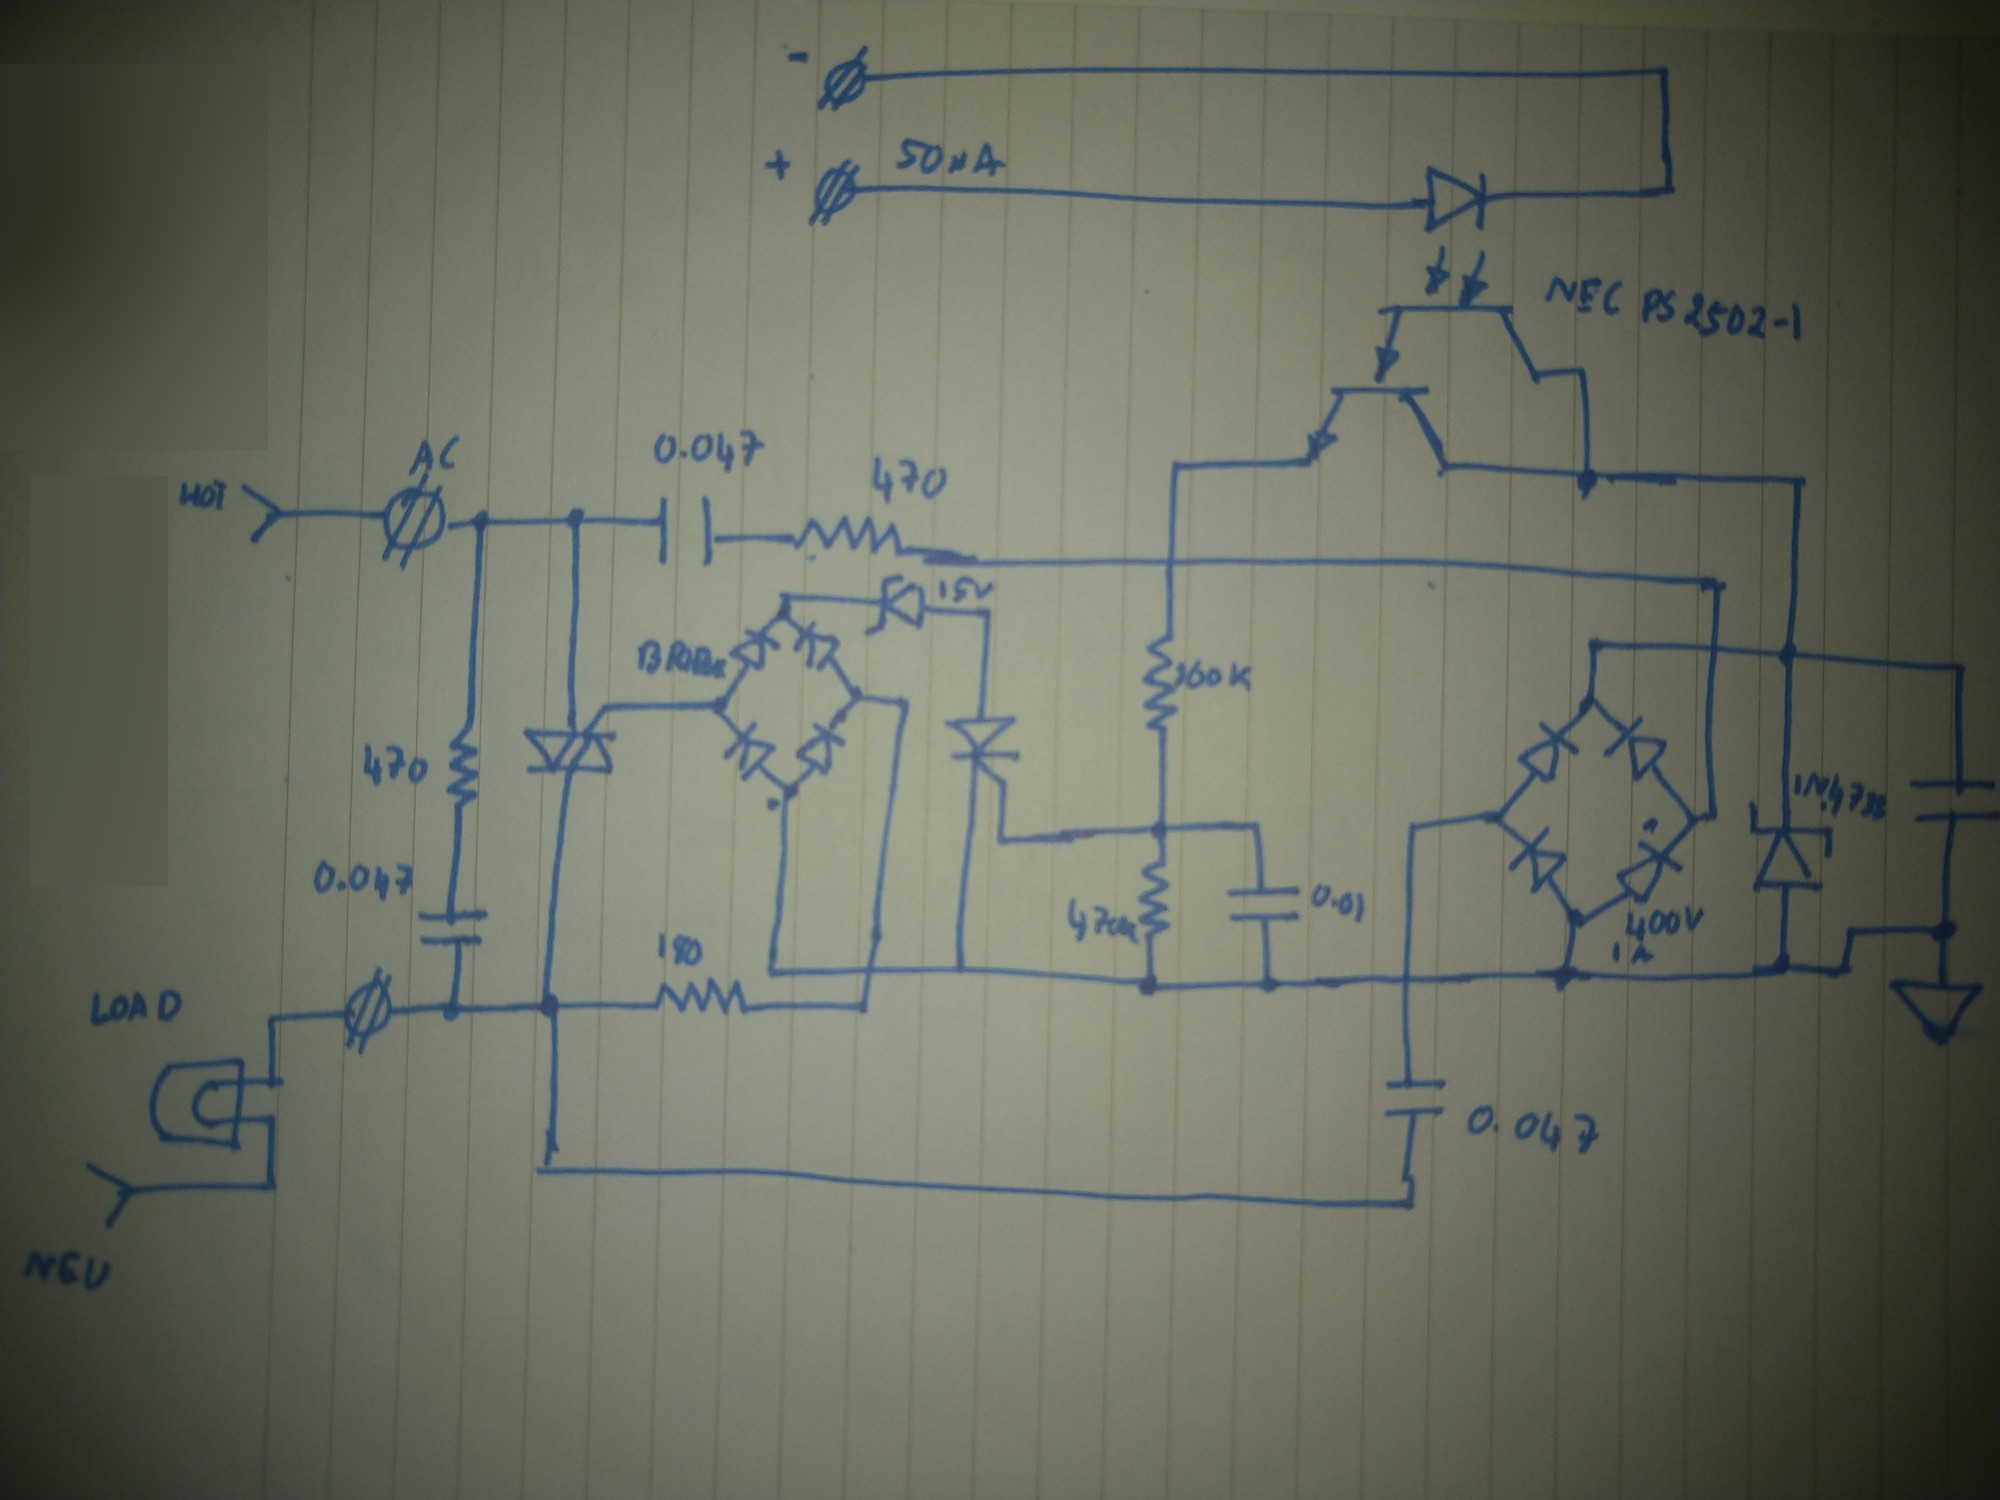capacitor.unpolarized: (1909, 770, 2000, 829), (655, 495, 721, 567), (1227, 879, 1301, 930), (1384, 1073, 1446, 1128), (416, 906, 491, 949)
crossover: (1157, 550, 1183, 574), (1395, 969, 1420, 989), (1702, 638, 1726, 659), (858, 958, 879, 980)
diode: (1750, 800, 1835, 890), (1616, 841, 1683, 904), (1605, 715, 1668, 782), (1509, 827, 1569, 893), (865, 575, 926, 637), (1517, 722, 1580, 782), (723, 722, 776, 782), (795, 722, 846, 774), (794, 622, 841, 671), (729, 629, 781, 670)
gnd: (1887, 975, 1984, 1046)
junction: (1573, 462, 1602, 498), (535, 989, 565, 1023), (1135, 966, 1164, 997), (1553, 961, 1580, 994), (1932, 917, 1959, 947), (1255, 969, 1282, 997), (441, 994, 466, 1024), (1769, 952, 1795, 978), (1657, 176, 1683, 202), (1791, 468, 1813, 496), (1778, 641, 1802, 666), (843, 684, 868, 707), (565, 506, 589, 531), (535, 1157, 557, 1182), (1706, 570, 1728, 596), (1567, 904, 1587, 931), (1150, 816, 1172, 840), (1578, 692, 1602, 714), (950, 956, 972, 978), (1246, 815, 1268, 837), (260, 1174, 280, 1197), (710, 692, 731, 715), (780, 777, 798, 802), (472, 507, 491, 533), (261, 1007, 283, 1027), (1950, 657, 1972, 678), (773, 607, 794, 629), (854, 994, 872, 1018), (1398, 1190, 1417, 1213), (762, 961, 781, 983), (1487, 804, 1506, 826), (261, 1108, 280, 1130), (261, 1071, 283, 1090), (773, 588, 795, 607), (894, 692, 913, 714), (1683, 810, 1702, 830), (994, 830, 1013, 849), (1169, 457, 1187, 476), (1406, 818, 1424, 838), (1704, 804, 1721, 824), (1835, 963, 1855, 980), (1655, 61, 1672, 82), (980, 603, 997, 622), (1573, 362, 1591, 380), (1586, 633, 1602, 652), (1843, 925, 1860, 941)
lamp: (146, 1056, 246, 1153)
optocoupler: (1372, 165, 1540, 384)
resistor: (791, 514, 906, 559), (654, 977, 750, 1018), (1142, 633, 1178, 734), (446, 723, 480, 811), (1137, 859, 1172, 941)
terminal: (817, 46, 871, 110), (809, 161, 861, 225), (85, 1161, 134, 1227), (241, 482, 283, 544)
text: (1543, 276, 1802, 342), (1466, 1105, 1598, 1153), (652, 429, 765, 471), (1794, 772, 1887, 822), (894, 137, 1005, 176), (312, 860, 416, 901), (636, 640, 728, 681), (871, 455, 946, 504), (22, 1251, 110, 1292), (90, 989, 183, 1026), (1066, 897, 1135, 944), (362, 744, 428, 786), (1624, 906, 1702, 941), (1176, 660, 1254, 692), (1310, 882, 1365, 923), (406, 435, 458, 474), (655, 931, 704, 967), (178, 477, 228, 511), (939, 577, 995, 603), (1609, 941, 1654, 964)
thyristor: (942, 714, 1024, 796)
transistor: (1302, 386, 1449, 477)
triac: (521, 701, 624, 778)
